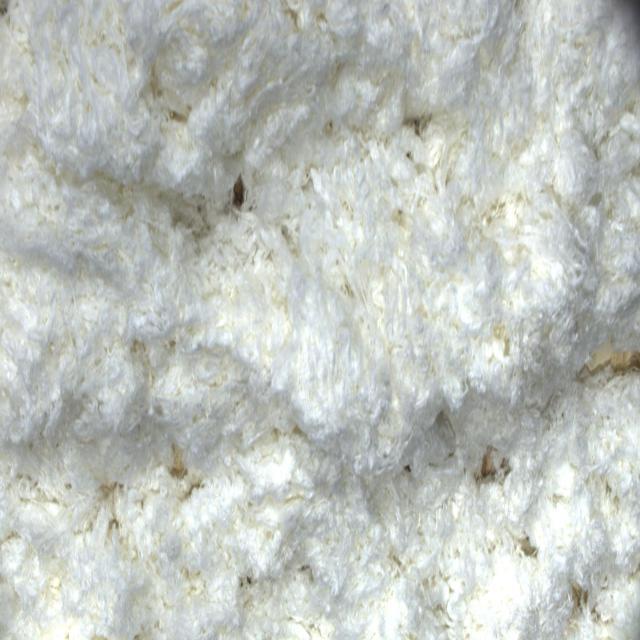dust: (585, 338, 640, 374), (477, 445, 512, 487), (571, 583, 601, 623), (167, 440, 189, 479), (518, 534, 538, 563)
